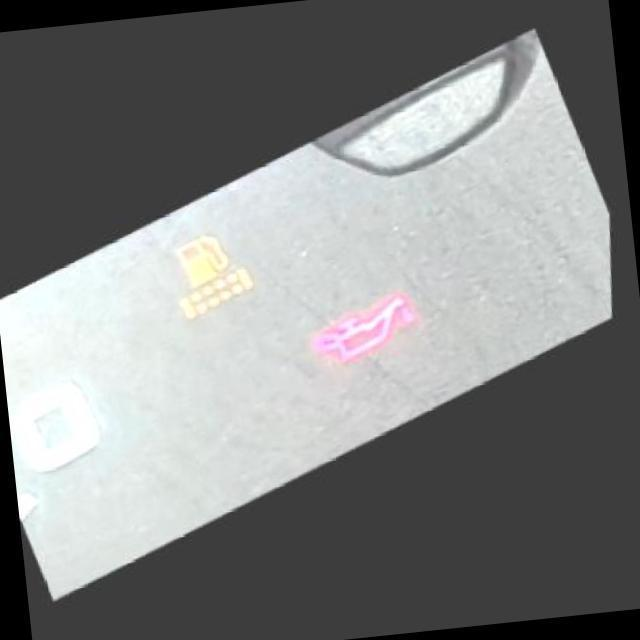Low fuel level: (168, 222, 244, 296)
